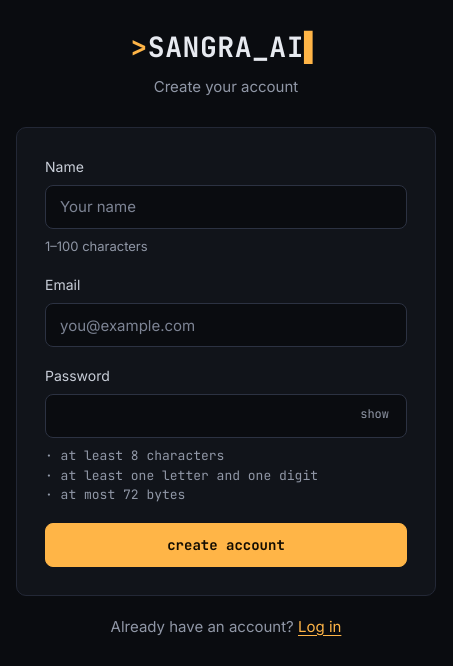
it: register › FE2-F10 / U02: {"email":"no-at-sign"} is refused before sending, focus on the field
This screenshot has width=453, height=666.
Type "Sangram" into the field labelled "Name" at (226,206), box [45,184,407,228]
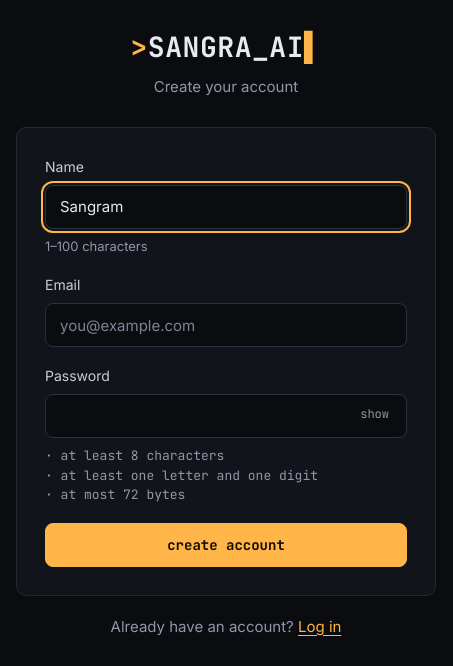
Type "no-at-sign" into the field labelled "Email" at (226,325), box [45,303,407,347]
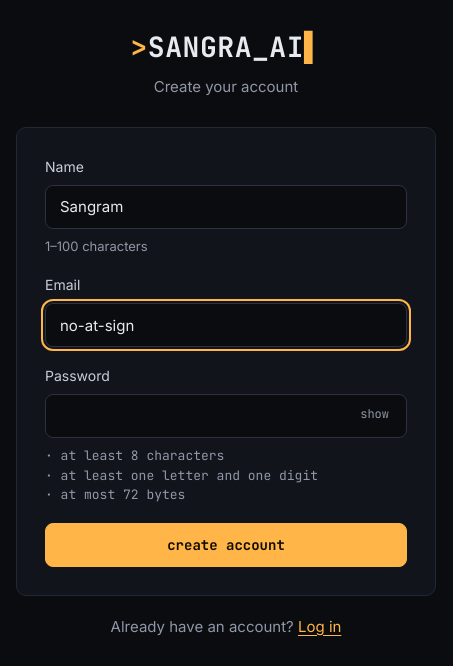
Type "Str0ng-pass" into the password field labelled "Password" at (226,416), box [45,394,407,438]
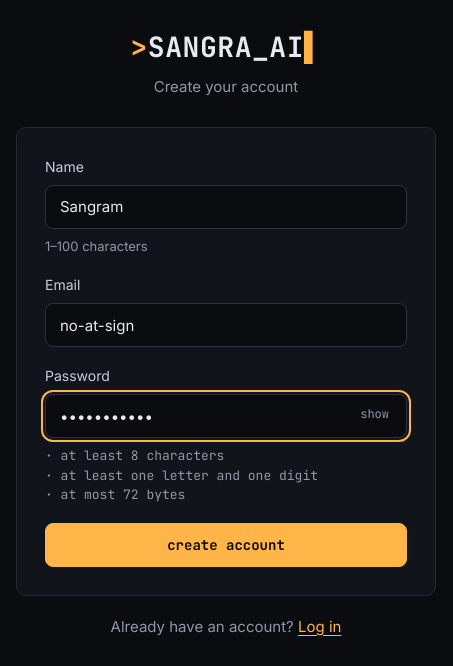
Click the button "create account" at (226,544), box [45,522,407,566]
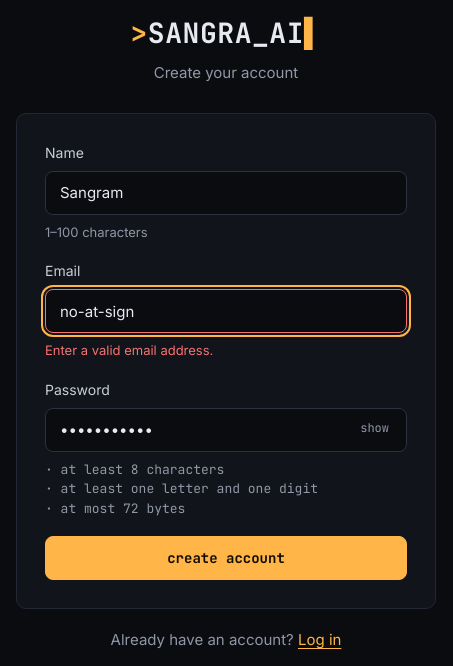
Check: the text "Enter a valid email address." is shown, box [45,342,213,358]
